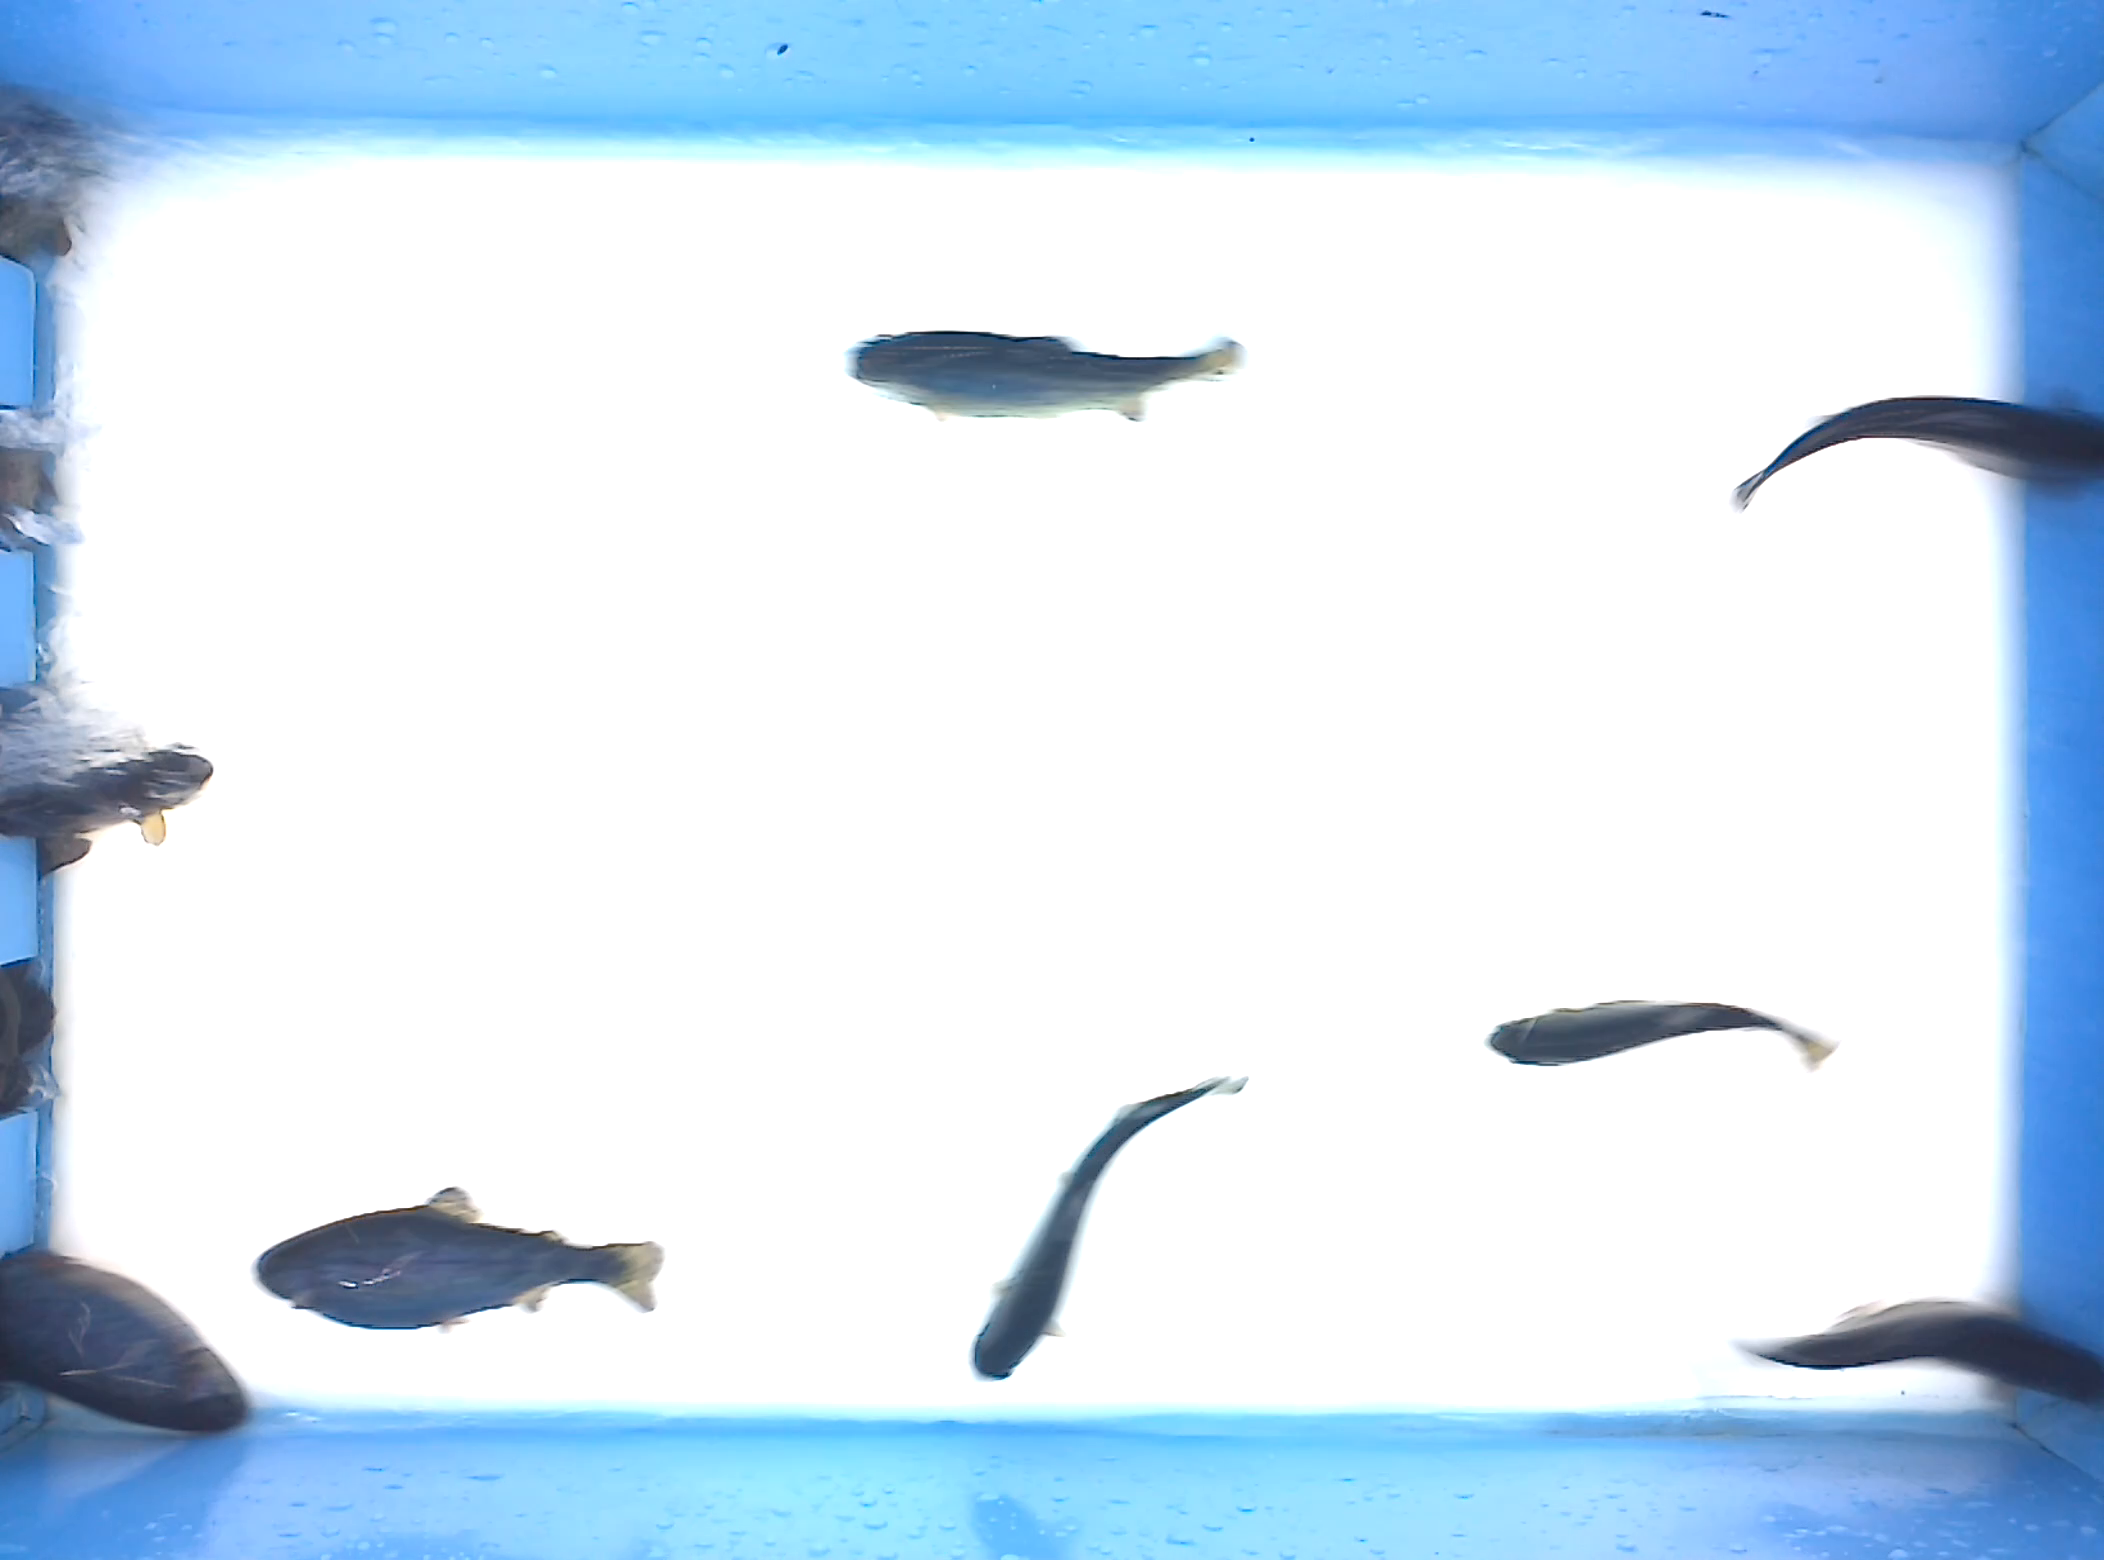fish: (968, 1073, 1250, 1385), (247, 1186, 669, 1336), (841, 323, 1250, 431), (1483, 995, 1843, 1077)
